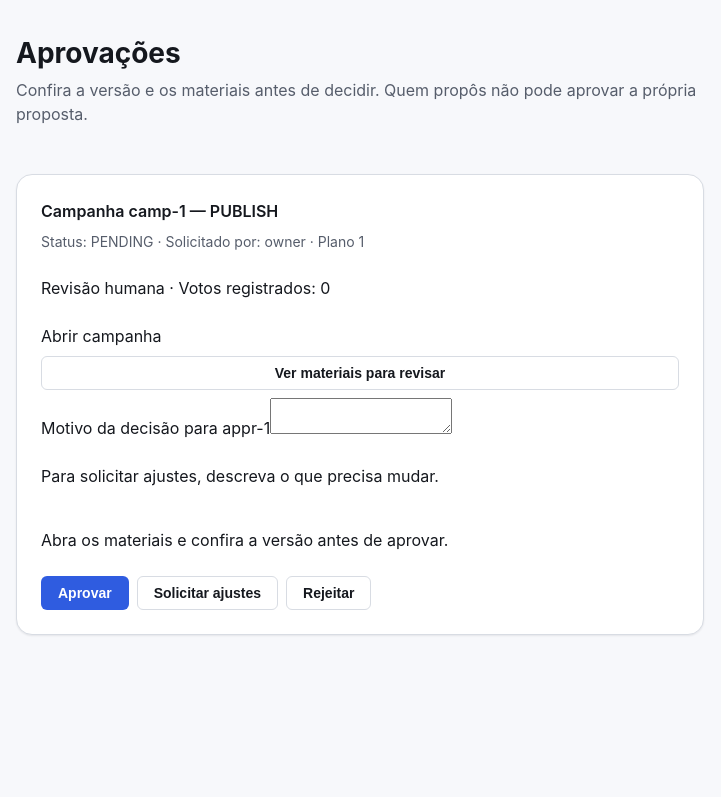
Test case: ApprovalsPage › displays the real separation-of-duties refusal
Expected: the button with test id "approve-appr-1" is shown, [41, 576, 129, 610]
Click the button "Ver materiais para revisar". click: point(360, 373)
box: [41, 356, 679, 390]
(page scrolled)
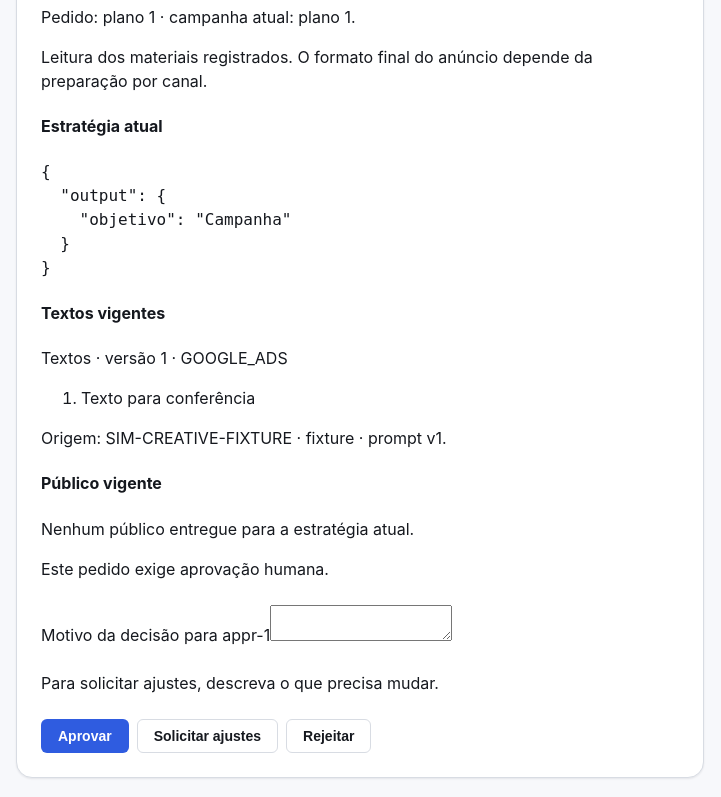
Expected: the list item "Texto para conferência" is shown, [81, 388, 255, 408]
Expected: the button with test id "approve-appr-1" is enabled
Click the button with test id "approve-appr-1". click: point(85, 736)
box: [41, 719, 129, 753]
(page scrolled)
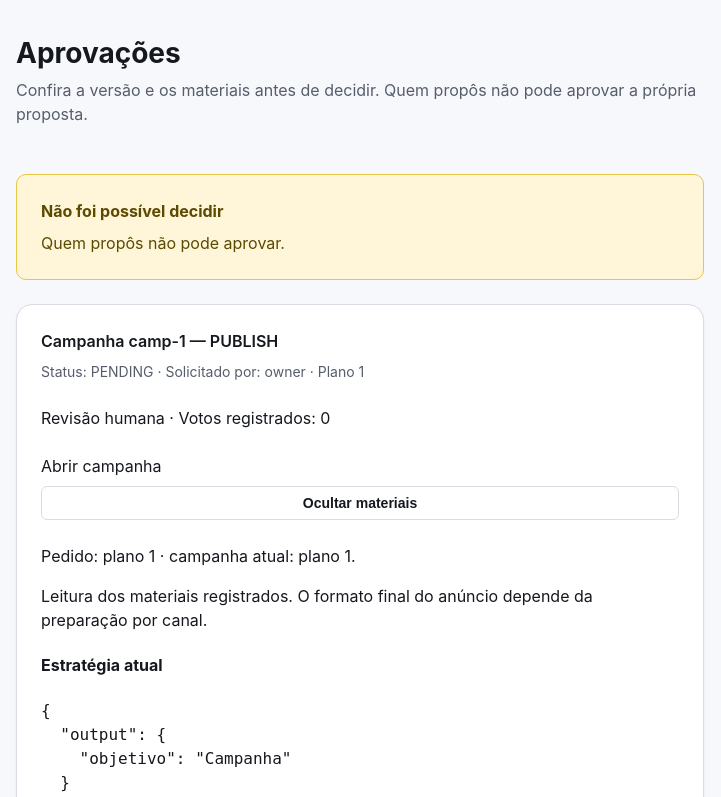
Expected: the text "Quem propôs não pode aprovar." is shown, [41, 231, 285, 255]
